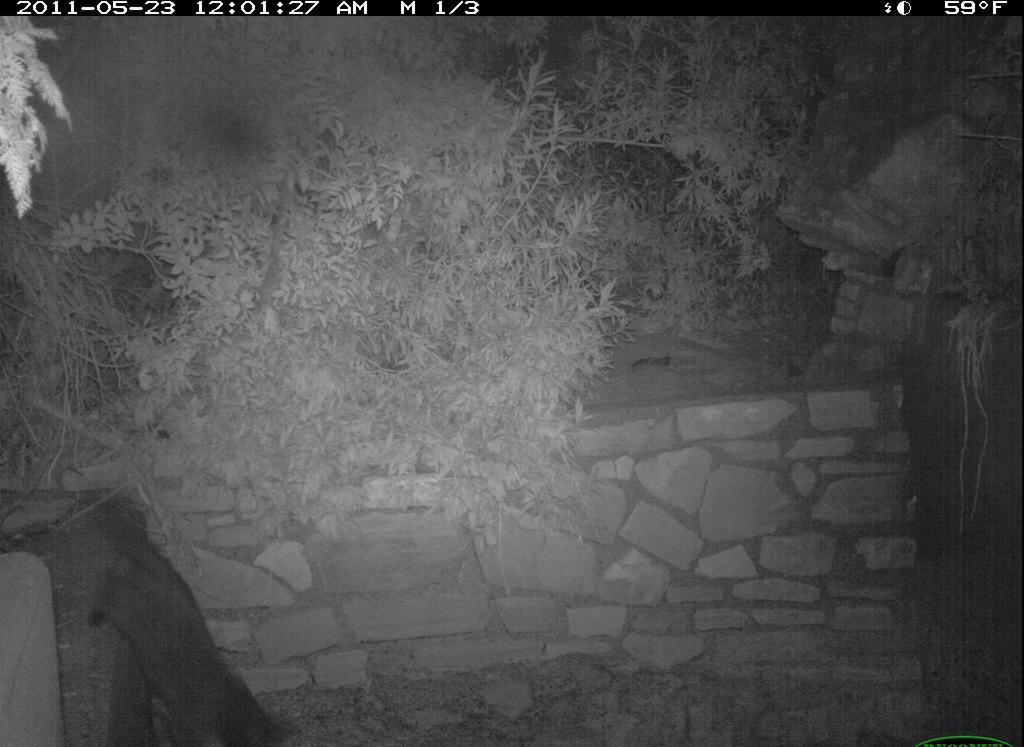cat: (73, 498, 297, 747)
